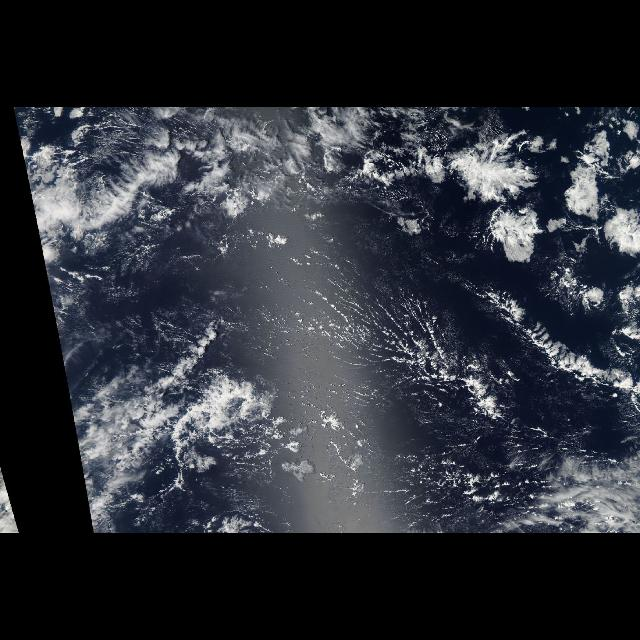Fish: (464, 289, 630, 405)
Flower: (440, 117, 640, 316)
Sugar: (257, 258, 565, 452)
